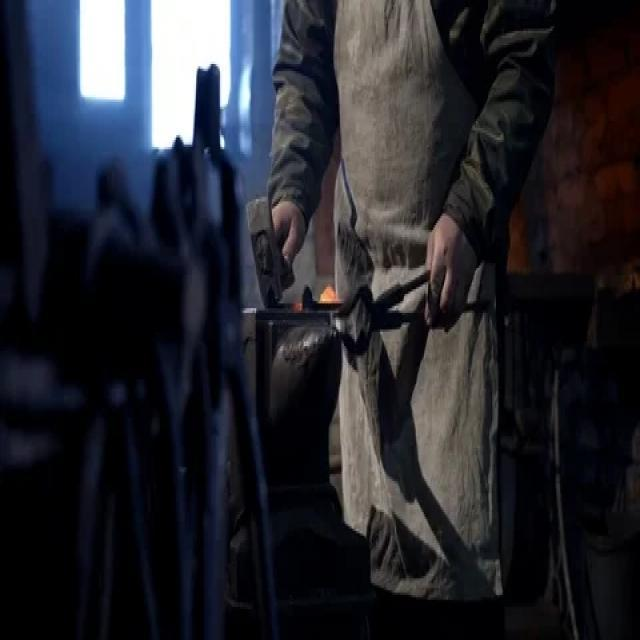hammer: (244, 190, 300, 310)
